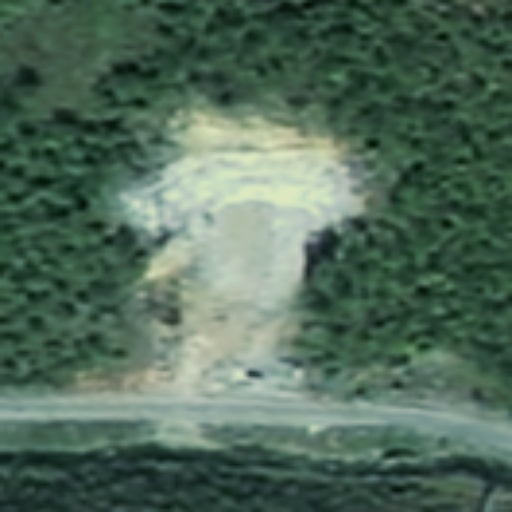landslide: (134, 106, 368, 371)
